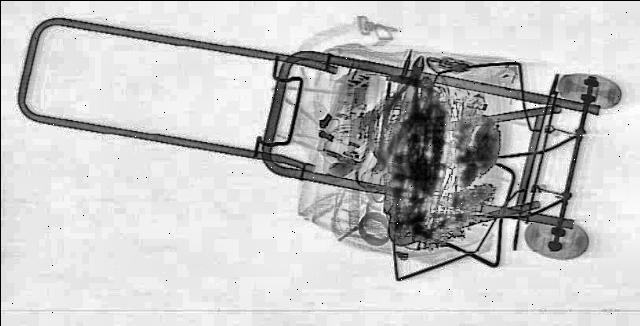Pliers: (367, 55, 438, 159)
